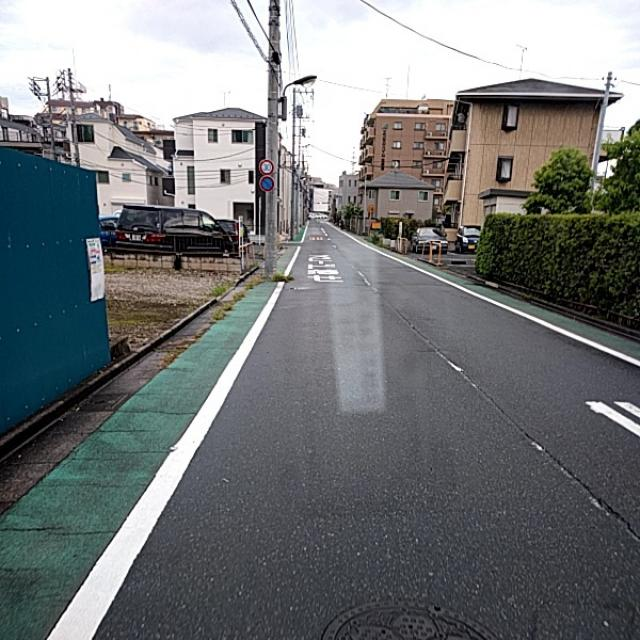pothole: (481, 386, 545, 441)
